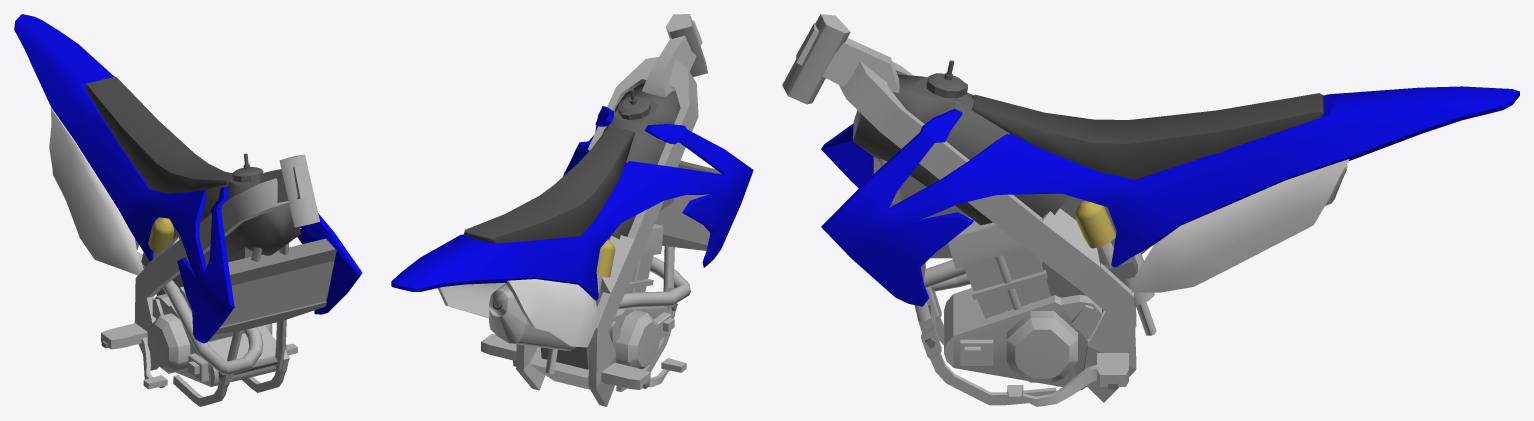
The model's file is bike_motard_body.fbx.
The picture shows the model from 3 angles, left to right: view 1: azimuth 30°, elevation 25°; view 2: azimuth 150°, elevation 25°; view 3: azimuth 270°, elevation 25°; orthographic projection. The views are drawn at different scales.
Parts seen in each view (by area): view 1: polySurface221; view 2: polySurface221; view 3: polySurface221.
Part boxes in pixels (bbox=[...]): polySurface221: bbox=[14, 14, 362, 406]; polySurface221: bbox=[391, 14, 753, 406]; polySurface221: bbox=[782, 14, 1519, 406].
Bounding box in the file's own units: 42.51 × 75.35 × 136.
